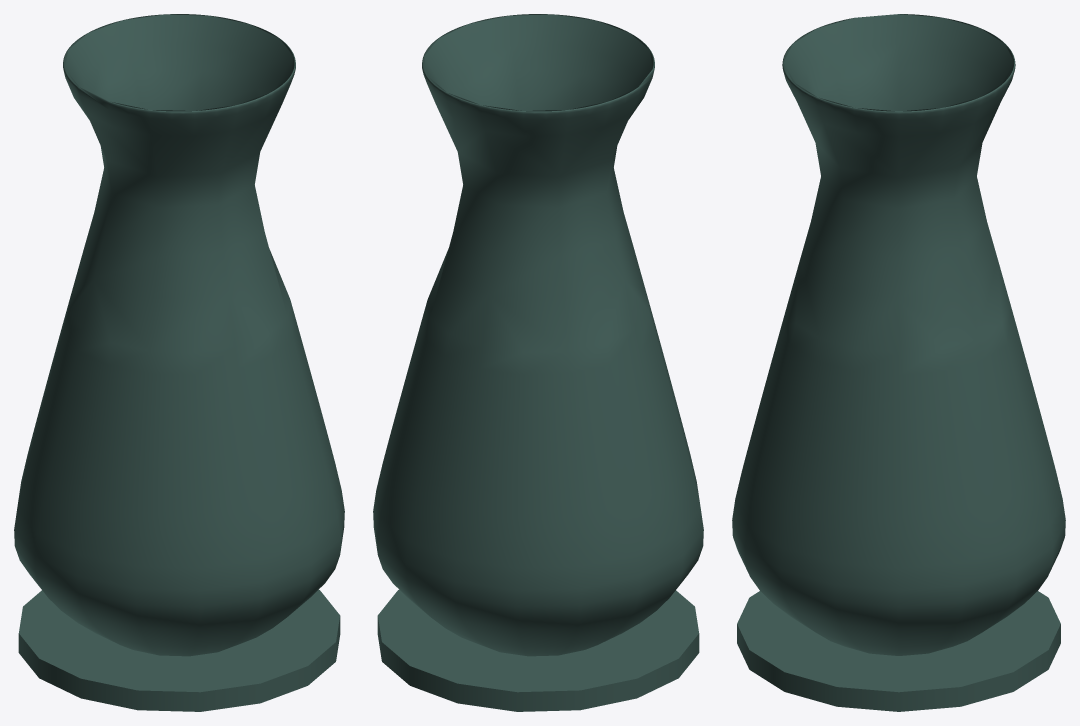
The model's file is huap.fbx.
The picture shows the model from 3 angles, left to right: view 1: azimuth 30°, elevation 25°; view 2: azimuth 150°, elevation 25°; view 3: azimuth 270°, elevation 25°; orthographic projection.
Visible parts, largest first — view 1: nurbsToPoly1, pCylinder1; view 2: nurbsToPoly1, pCylinder1; view 3: nurbsToPoly1, pCylinder1.
Part boxes in pixels (x1,y1,x2,y2): nurbsToPoly1: [14, 14, 344, 656]; pCylinder1: [18, 589, 340, 711]; nurbsToPoly1: [373, 14, 703, 656]; pCylinder1: [377, 589, 699, 711]; nurbsToPoly1: [732, 14, 1065, 655]; pCylinder1: [737, 591, 1060, 711].
Bounding box in the file's own units: 5.28 × 10.14 × 5.28.
